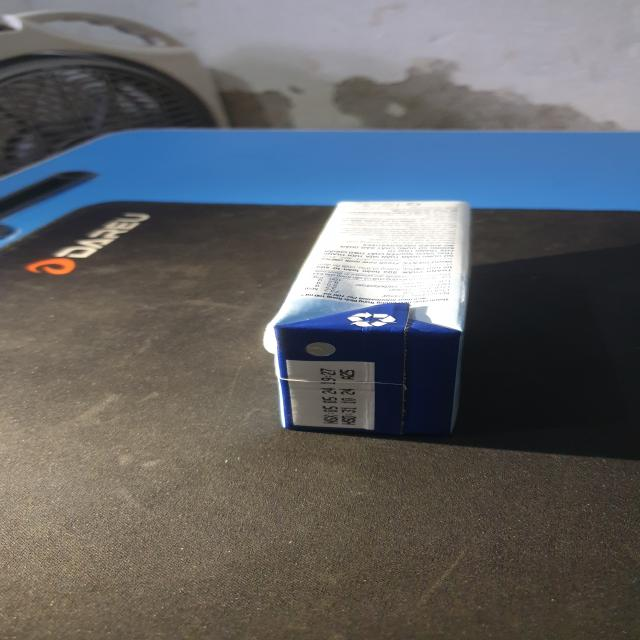TH: (269, 201, 475, 442)
